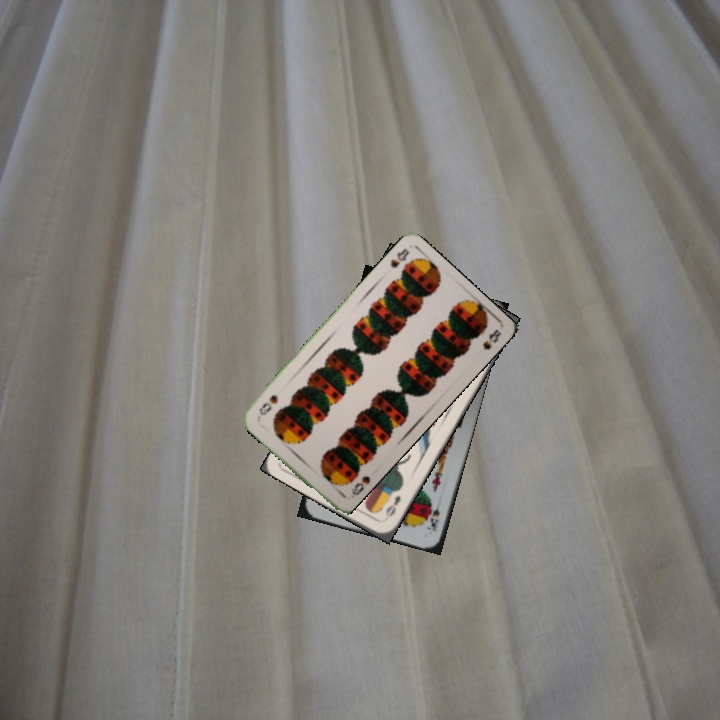EO: (382, 491, 404, 520)
S8: (346, 472, 373, 500), (386, 244, 412, 271)
SK: (422, 496, 444, 534)
